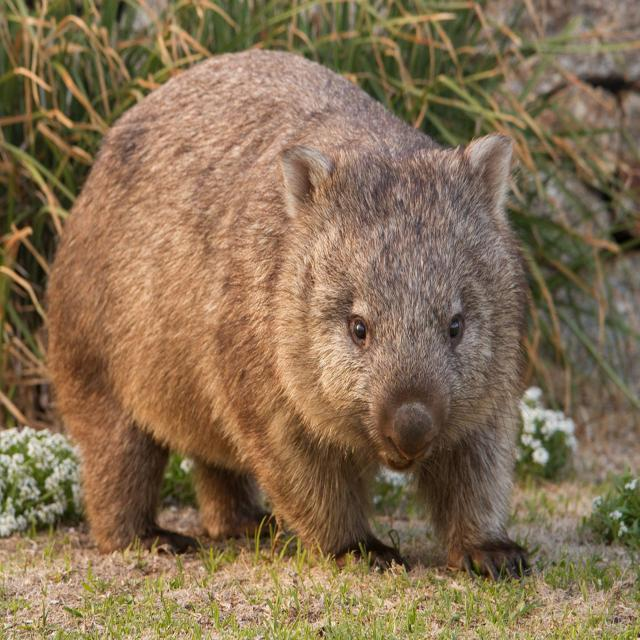wombats: (47, 50, 528, 579)
